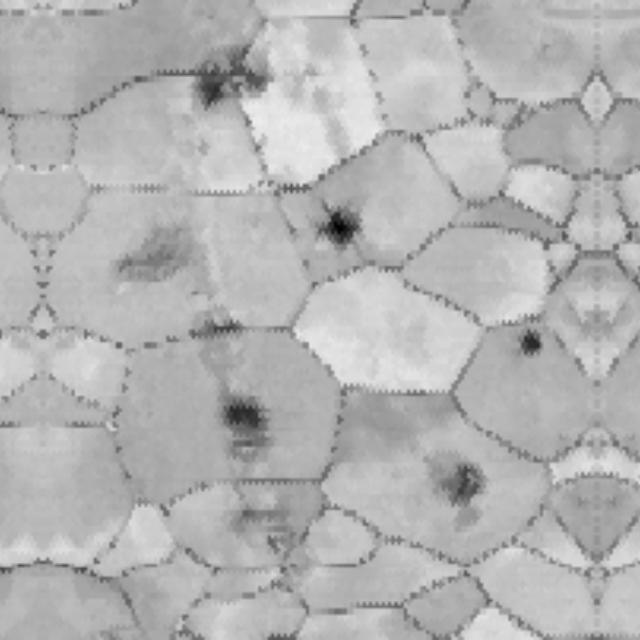good_void: (112, 214, 215, 301), (187, 47, 278, 118), (225, 490, 306, 568), (215, 394, 278, 459), (317, 199, 364, 252), (446, 455, 489, 502), (185, 317, 249, 346), (519, 321, 546, 365), (523, 35, 556, 64)
